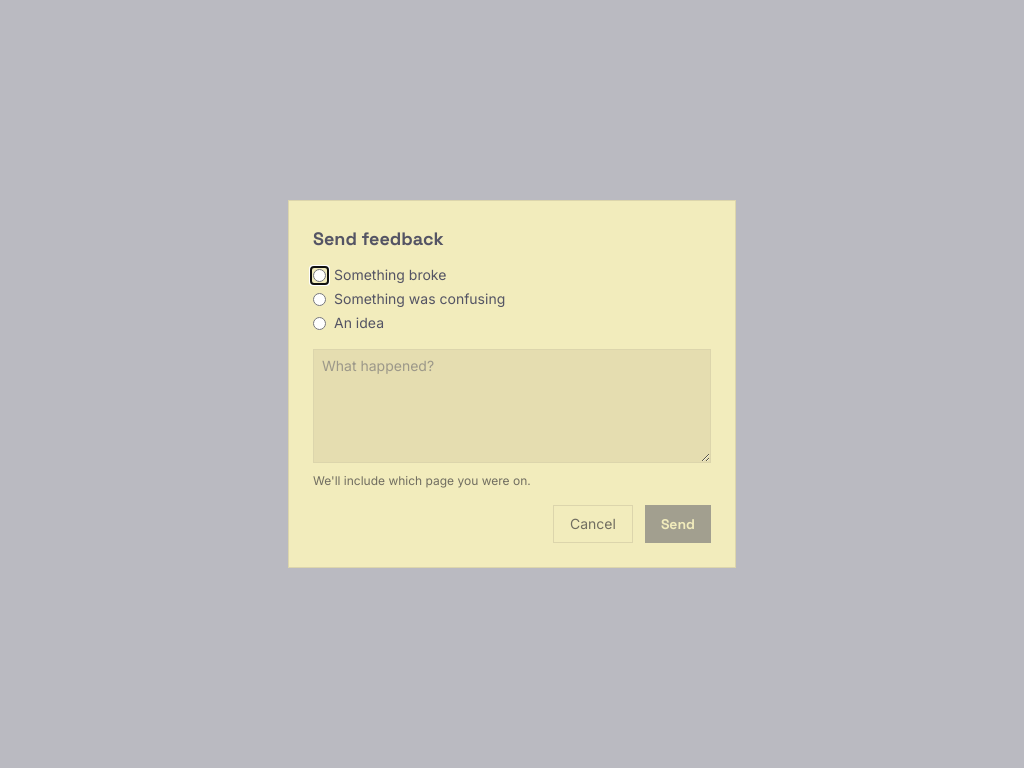
it: FeedbackDialog › keeps the dialog and the text when sending fails
Click the radio button labelled "Something broke" at (320, 275), box 313,268 -> 326,282
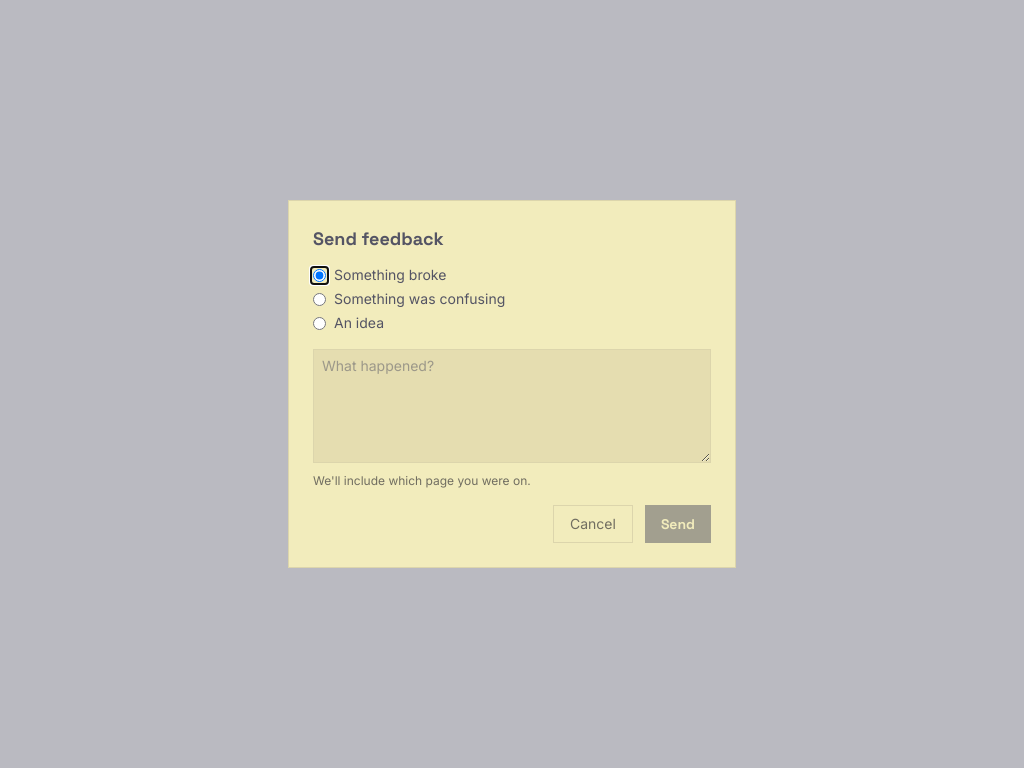
Type "Import hung." into the text box labelled "What happened" at (512, 406), box 313,349 -> 711,463
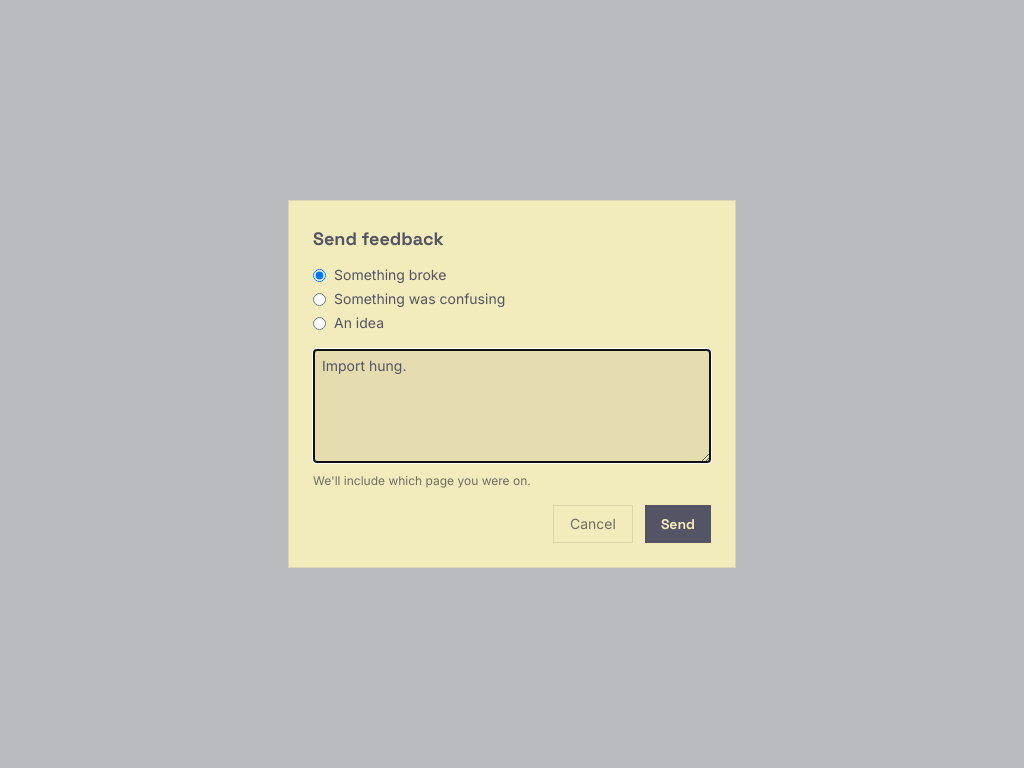
Click the button "Send" at (678, 524), box 645,505 -> 711,543
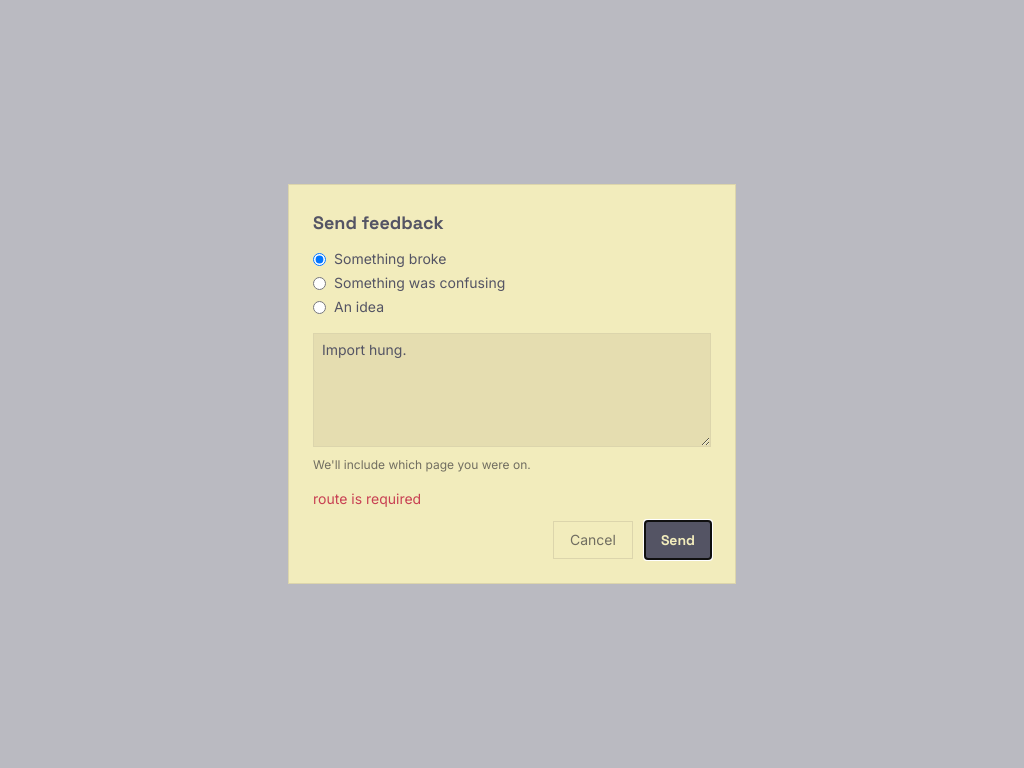
Expected: the dialog is shown, 288,184 -> 736,584
Expected: the radio button labelled "Something broke" is checked, 313,252 -> 326,266
Expected: the message reads "route is required", 313,490 -> 421,507
